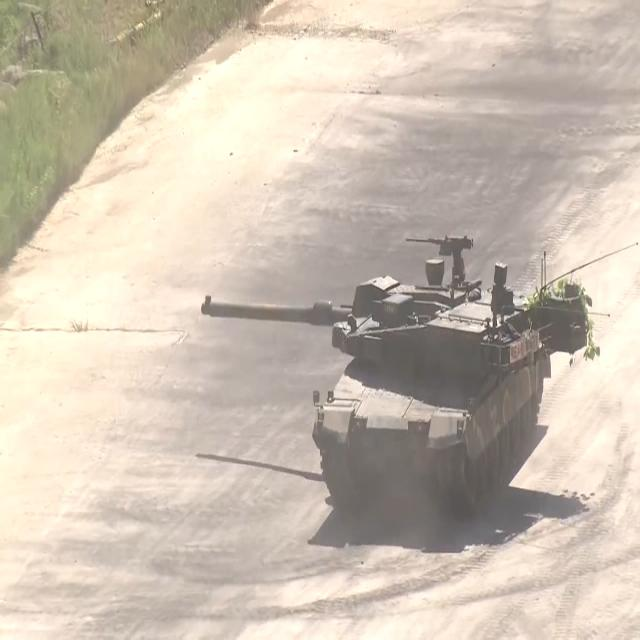korea tank: (199, 233, 591, 522)
